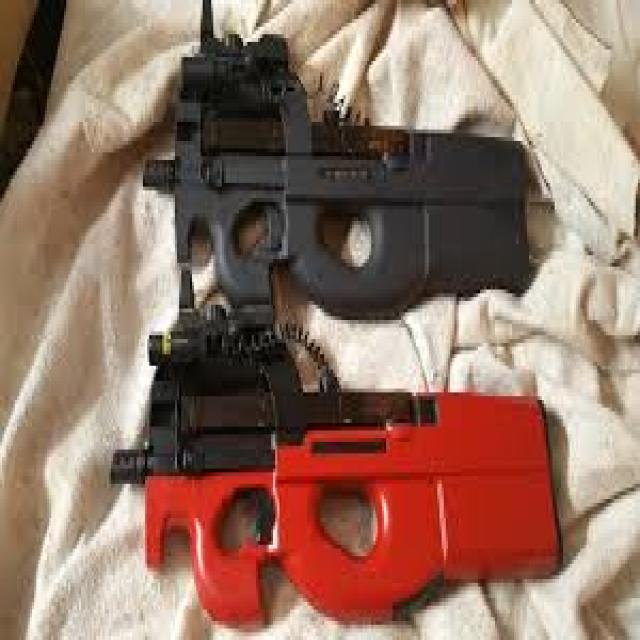Gun: (118, 279, 572, 638), (145, 27, 553, 326)
